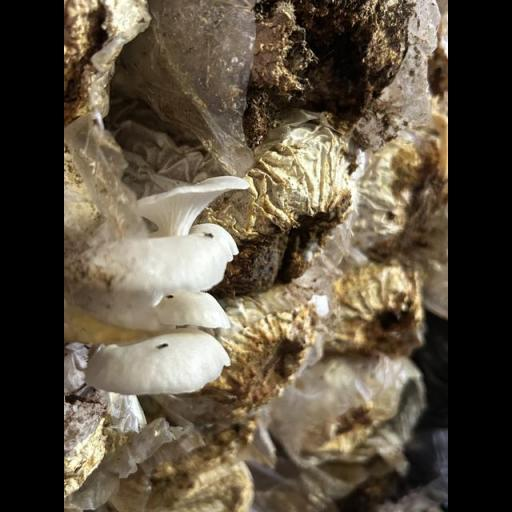White Oyster Mushroom: (94, 162, 245, 422)
